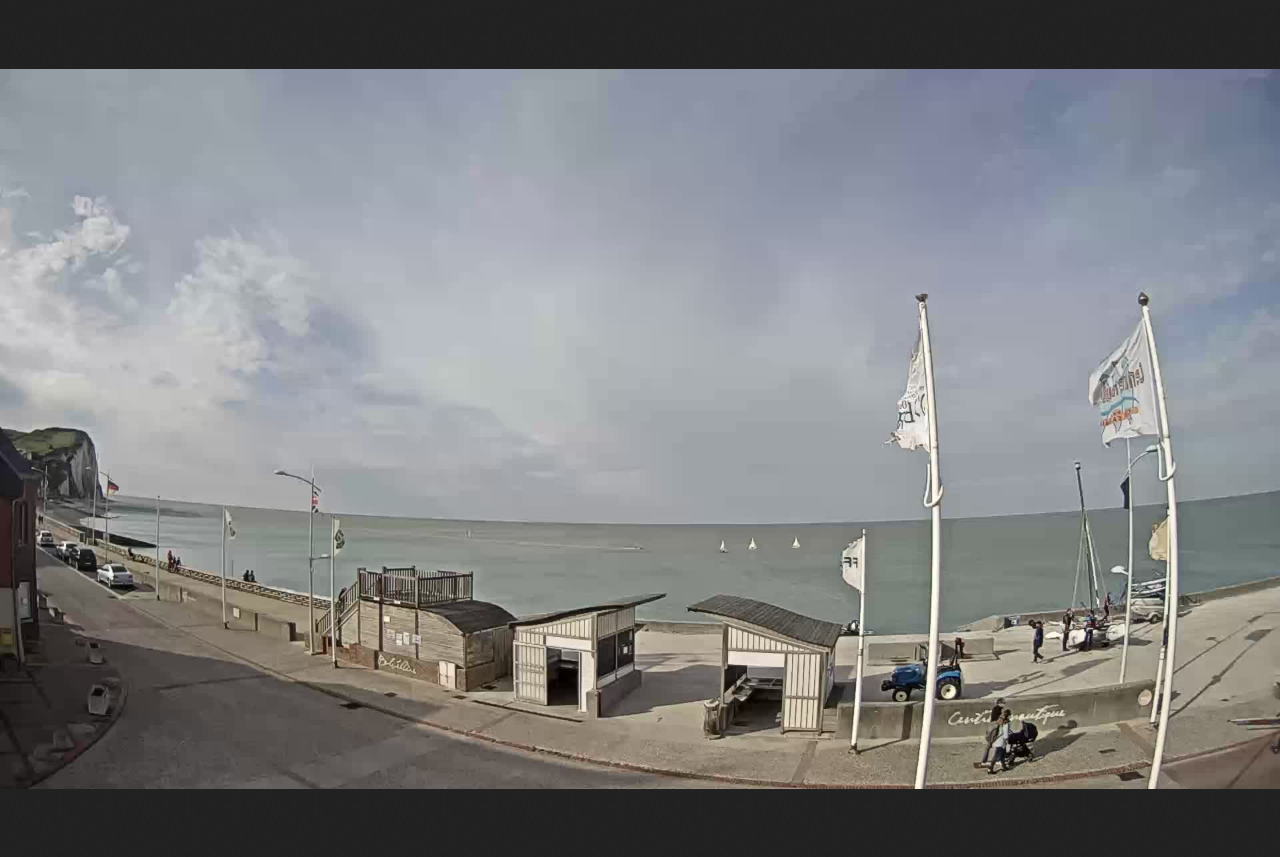maybe: (1091, 329, 1161, 443), (891, 329, 934, 457), (836, 533, 865, 597), (1146, 517, 1168, 557), (330, 515, 349, 554), (223, 508, 237, 539)
